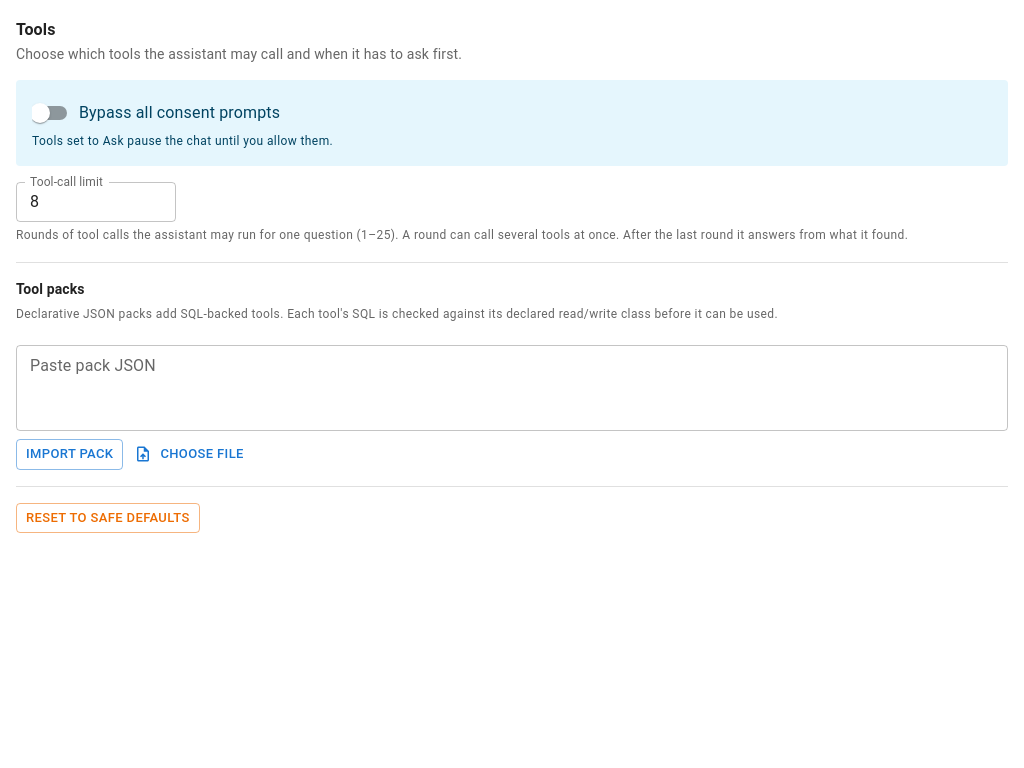
Test: AiToolsTab tool-call limit › clamps an out-of-range value instead of saving it as typed
Replace the text in the number field with test id "ai-tool-call-limit" with "999". click: (96, 202)
box: [16, 182, 176, 222]
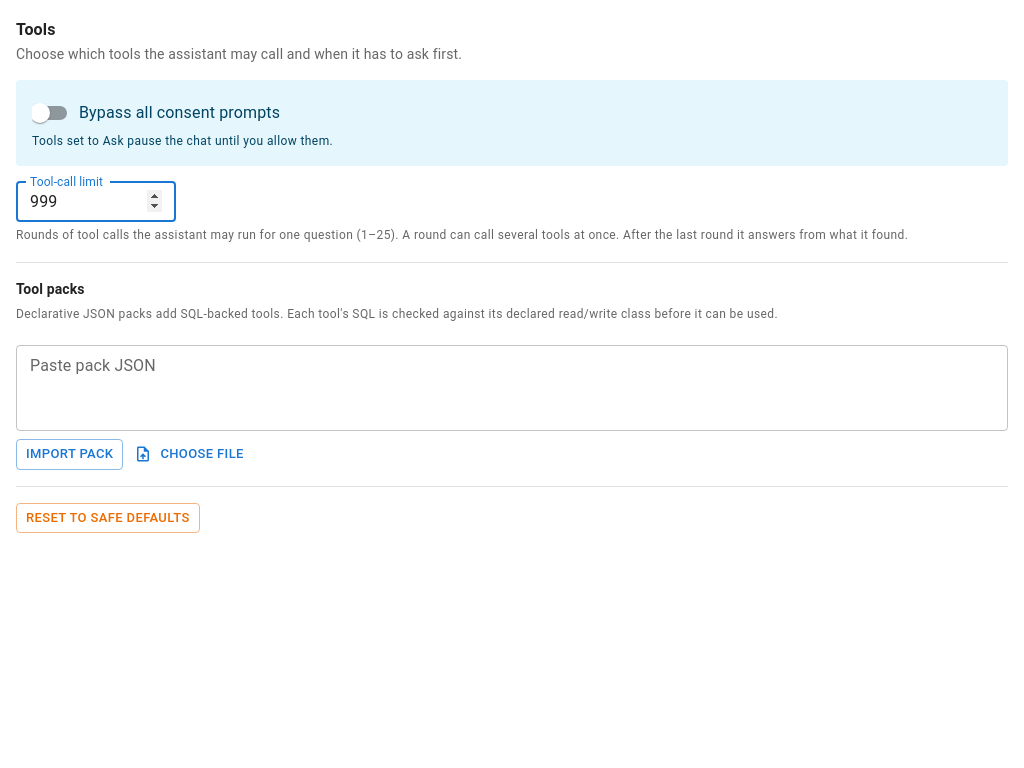
Press Tab
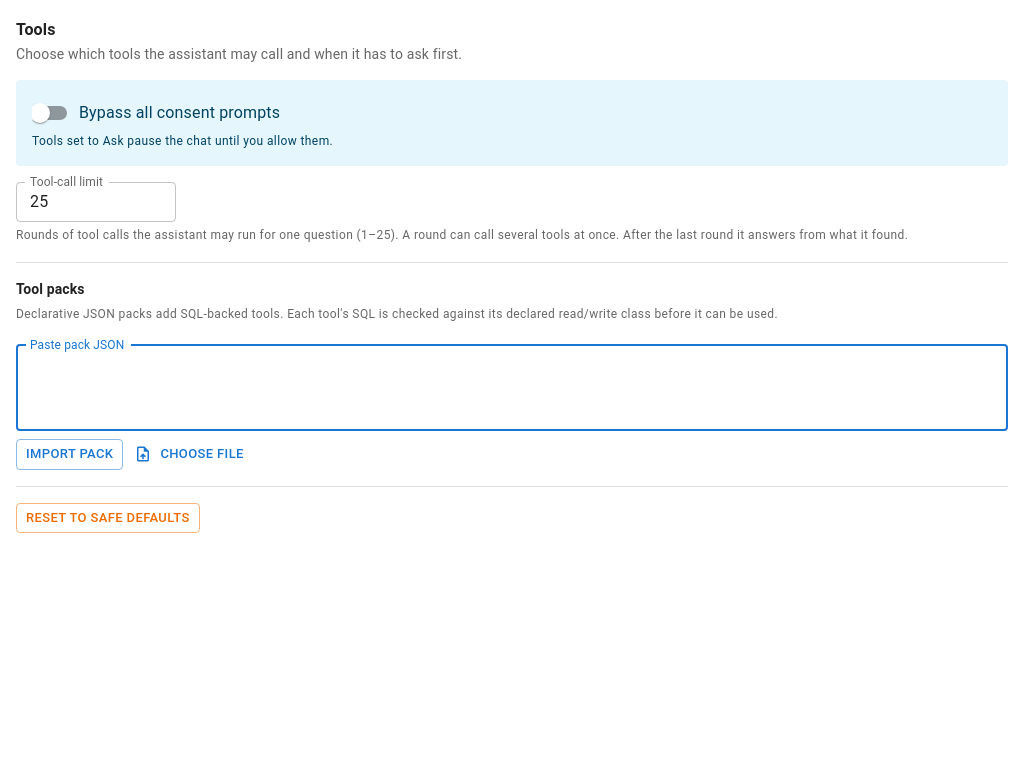
Expected: the number field with test id "ai-tool-call-limit" holds "25", [16, 182, 176, 222]
